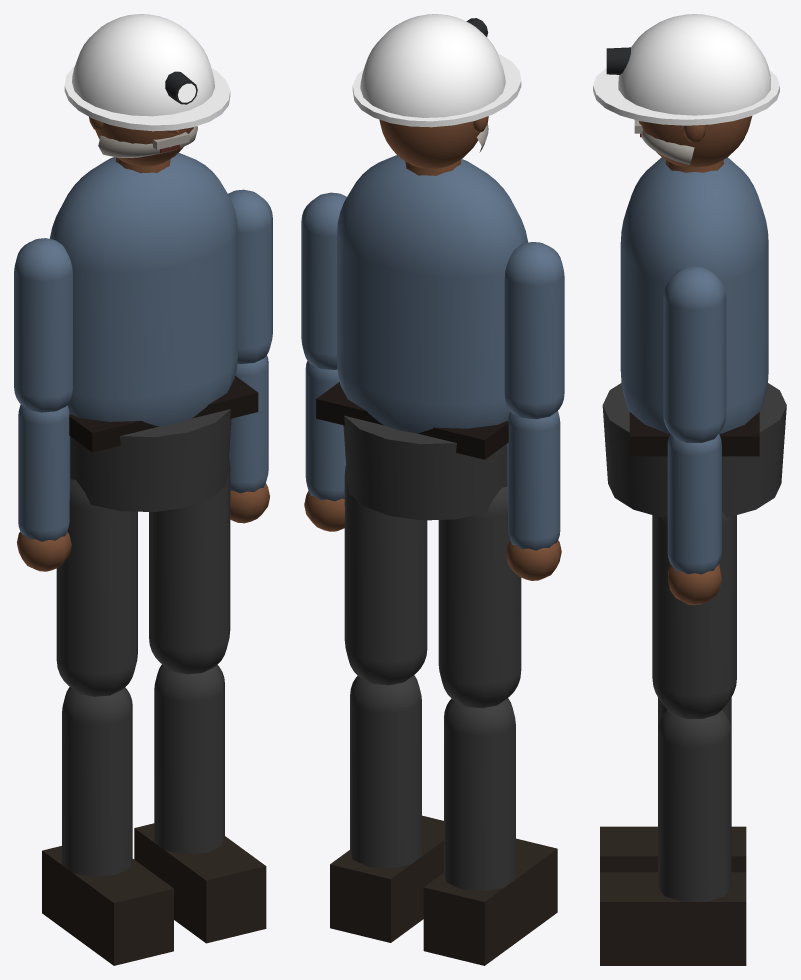
File: worker_tiao.glb
3 views of the same model, side by side, from view 1: azimuth 30°, elevation 25°; view 2: azimuth 150°, elevation 25°; view 3: azimuth 270°, elevation 25° (orthographic).
Parts seen in each view (by area): view 1: worker_torso, worker_legs_0_knee, worker_legs_1_knee, worker_head, worker_legs_0_hip, worker_legs_1_hip, worker_arms_0_sh, worker_arms_0_el, worker_arms_1_sh, worker_arms_1_el, worker_arms_0_hand, worker_arms_1_hand; view 2: worker_torso, worker_legs_0_knee, worker_legs_1_knee, worker_head, worker_legs_0_hip, worker_legs_1_hip, worker_arms_0_sh, worker_arms_0_el, worker_arms_1_sh, worker_arms_1_el, worker_arms_0_hand, worker_arms_1_hand; view 3: worker_torso, worker_legs_1_knee, worker_head, worker_legs_1_hip, worker_arms_1_sh, worker_arms_1_el, worker_legs_0_knee, worker_arms_1_hand.
Part boxes in pixels (x1,y1,x2,y2): worker_torso: (50, 152, 258, 511); worker_legs_0_knee: (42, 687, 173, 965); worker_legs_1_knee: (134, 664, 266, 943); worker_head: (64, 14, 230, 166); worker_legs_0_hip: (56, 479, 137, 696); worker_legs_1_hip: (149, 458, 230, 674); worker_arms_0_sh: (14, 238, 72, 412); worker_arms_0_el: (18, 404, 70, 541); worker_arms_1_sh: (228, 189, 272, 364); worker_arms_1_el: (229, 355, 268, 493); worker_arms_0_hand: (17, 531, 71, 571); worker_arms_1_hand: (230, 483, 269, 523); worker_torso: (316, 155, 528, 520); worker_legs_0_knee: (423, 698, 557, 965); worker_legs_1_knee: (330, 675, 443, 942); worker_head: (352, 14, 521, 168); worker_legs_0_hip: (438, 487, 521, 708); worker_legs_1_hip: (344, 466, 427, 685); worker_arms_0_sh: (504, 242, 564, 419); worker_arms_0_el: (507, 411, 560, 550); worker_arms_1_sh: (301, 192, 346, 369); worker_arms_1_el: (305, 361, 345, 501); worker_arms_0_hand: (506, 540, 561, 580); worker_arms_1_hand: (304, 491, 344, 531); worker_torso: (602, 157, 786, 517); worker_legs_1_knee: (600, 710, 746, 965); worker_head: (593, 14, 779, 167); worker_legs_1_hip: (652, 512, 736, 718); worker_arms_1_sh: (663, 266, 726, 442); worker_arms_1_el: (667, 434, 721, 574); worker_legs_0_knee: (600, 697, 746, 872); worker_arms_1_hand: (668, 563, 721, 605).
Bounding box in the file's own units: 0.5403 × 1.85 × 0.3575.
